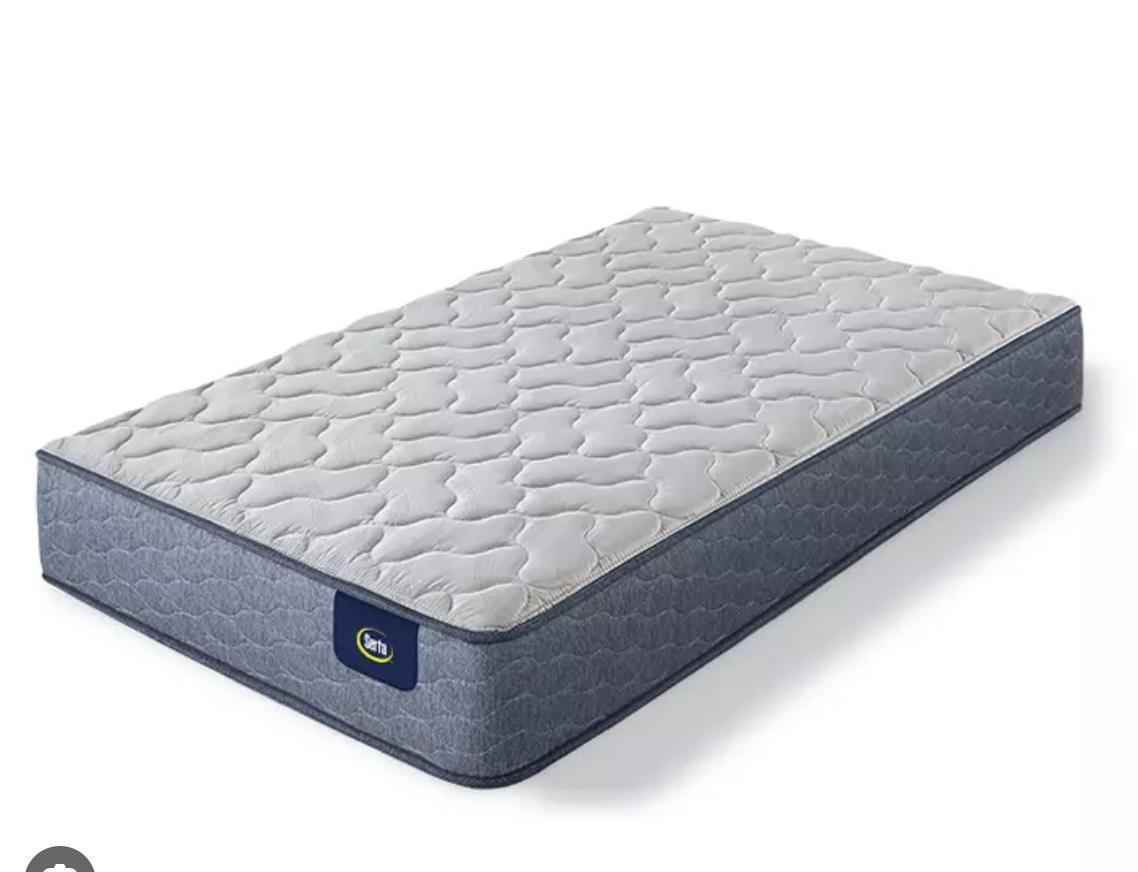Bed-Mattress: (25, 194, 1096, 806)
